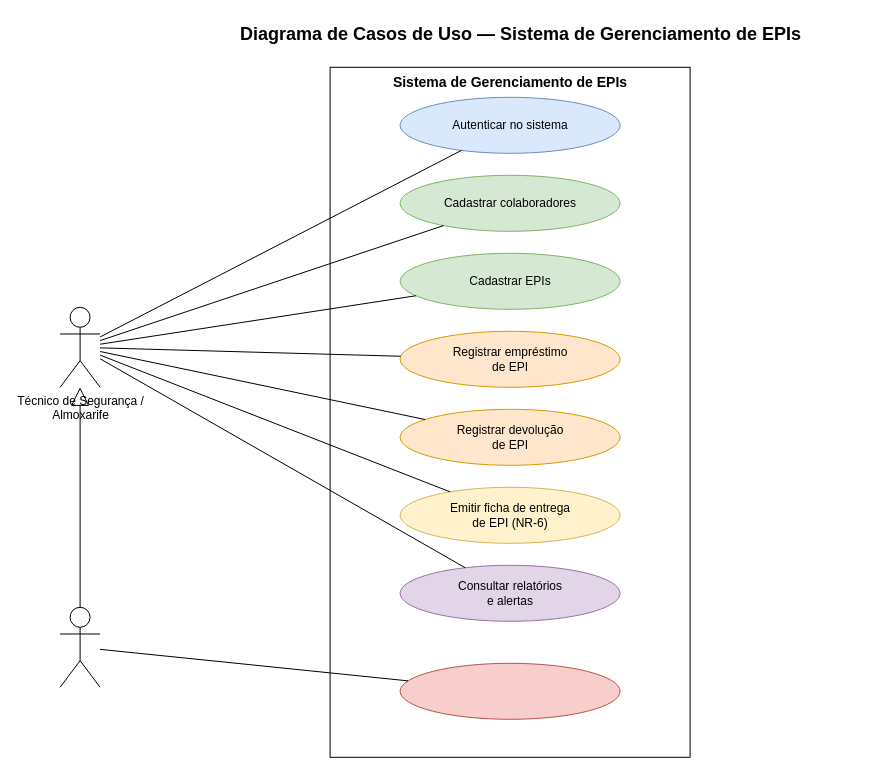
Image size: 878x775. Some labels were removed from this diagram. Each missing label, with the centre of its shape:
Administrador: (x=79, y=646)
Gerenciar usuários do sistema: (x=509, y=690)
